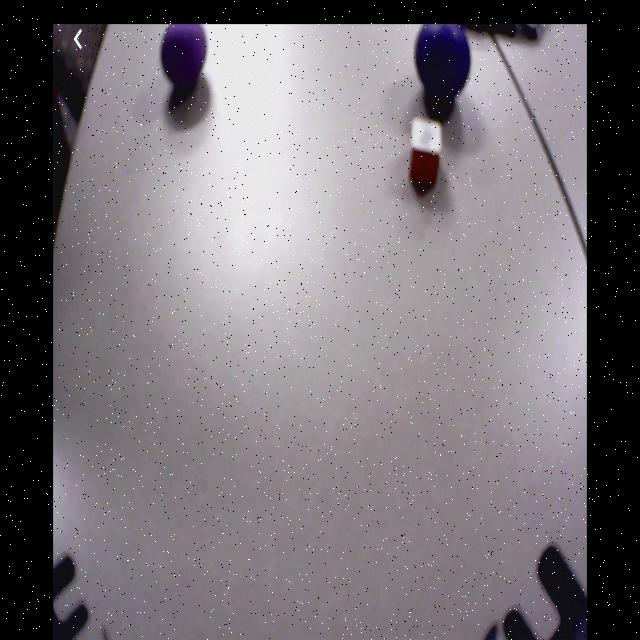ball: (416, 26, 471, 99), (161, 25, 208, 83)
